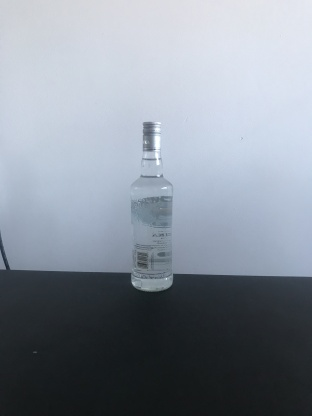nakretka: (141, 119, 163, 152)
